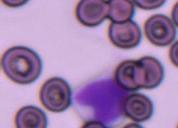M: (70, 72, 132, 126)
